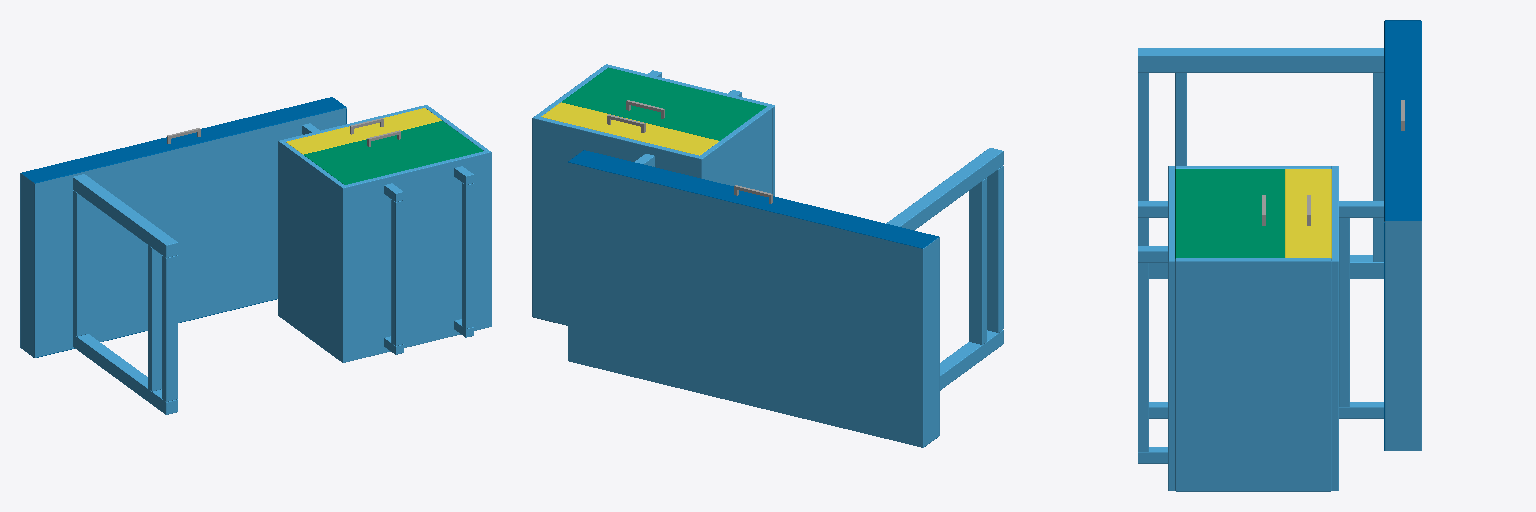
URDF robot description (428):
<robot name="428">


	<link name="0:virtual">
		<visual>
			<origin xyz="0.0 0.0 0.0" rpy="0 0 0"/>
			<geometry>
				<cylinder length="0" radius="0"/>
			</geometry>
		</visual>
	</link>


	<link name="1:static">
		<visual>
			<origin xyz="-0.0 -0.0 -0.0" rpy="0 0 0"/>
			<geometry>
				<mesh filename="../raw_data/428/part_meshes/1.dae" />
			</geometry>
		</visual>
	</link>


	<link name="2:drawer 1">
		<visual>
			<origin xyz="-0.4523730054497719 -0.24418560042977333 0.005740508437156677" rpy="0 0 0"/>
			<geometry>
				<mesh filename="../raw_data/428/part_meshes/2.dae" />
			</geometry>
		</visual>
	</link>


	<link name="3:drawer 2">
		<visual>
			<origin xyz="-0.4523730054497719 -0.4495314955711365 0.005740508437156677" rpy="0 0 0"/>
			<geometry>
				<mesh filename="../raw_data/428/part_meshes/3.dae" />
			</geometry>
		</visual>
	</link>


	<link name="4:drawer 3">
		<visual>
			<origin xyz="0.12542998790740967 -0.699999988079071 0.014967501163482666" rpy="0 0 0"/>
			<geometry>
				<mesh filename="../raw_data/428/part_meshes/4.dae" />
			</geometry>
		</visual>
	</link>


	<joint name="0:virtual::1:static" type="fixed">
		<parent link="0:virtual"/>
		<child link="1:static"/>
		<origin xyz="0.0 0.0 0.0" rpy="0 0 0"/>
	</joint>


	<joint name="0:virtual::2:drawer 1_translation" type="prismatic">
		<parent link="0:virtual"/>
		<child link="2:drawer 1"/>
		<origin xyz="0.4523730054497719 0.24418560042977333 -0.005740508437156677" rpy="0 0 0"/>
		<limit lower="0.0" upper="0.493121479034424" effort="10" velocity="3"/>
		<axis xyz="0.0 0.0 1.0"/>
	</joint>


	<joint name="0:virtual::3:drawer 2_translation" type="prismatic">
		<parent link="0:virtual"/>
		<child link="3:drawer 2"/>
		<origin xyz="0.4523730054497719 0.4495314955711365 -0.005740508437156677" rpy="0 0 0"/>
		<limit lower="0.0" upper="0.493121479034424" effort="10" velocity="3"/>
		<axis xyz="0.0 0.0 1.0"/>
	</joint>


	<joint name="0:virtual::4:drawer 3_translation" type="prismatic">
		<parent link="0:virtual"/>
		<child link="4:drawer 3"/>
		<origin xyz="-0.12542998790740967 0.699999988079071 -0.014967501163482666" rpy="0 0 0"/>
		<limit lower="-0.0002924630641937" upper="0.498707536935806" effort="10" velocity="3"/>
		<axis xyz="0.0 0.0 1.0"/>
	</joint>


</robot>

--- Render facts (derived) ---
The picture shows the robot from 3 angles, left to right: view 1: azimuth 30°, elevation 25°; view 2: azimuth 150°, elevation 25°; view 3: azimuth 270°, elevation 25°; orthographic projection.
Model 428 with 5 links and 4 joints (3 prismatic, 1 fixed), rooted at 0:virtual, posed every joint at zero.
Links seen in each view (by area): view 1: 1:static, 2:drawer 1, 4:drawer 3, 3:drawer 2; view 2: 1:static, 2:drawer 1, 4:drawer 3, 3:drawer 2; view 3: 1:static, 2:drawer 1, 4:drawer 3, 3:drawer 2.
Link boxes in pixels (x1,y1,x2,y2): 1:static: (20, 105, 491, 414); 2:drawer 1: (304, 121, 482, 184); 4:drawer 3: (21, 97, 346, 357); 3:drawer 2: (286, 108, 441, 154); 1:static: (532, 64, 1003, 447); 2:drawer 1: (562, 68, 766, 140); 4:drawer 3: (568, 150, 938, 446); 3:drawer 2: (541, 102, 718, 155); 1:static: (1138, 48, 1421, 491); 2:drawer 1: (1175, 169, 1284, 258); 4:drawer 3: (1384, 20, 1421, 450); 3:drawer 2: (1285, 169, 1331, 258).
Size in the robot's own frame: 1.5 by 0.75 by 0.6997 metres.
4 mesh visuals loaded from 4 distinct referenced files (4 Collada DAE).